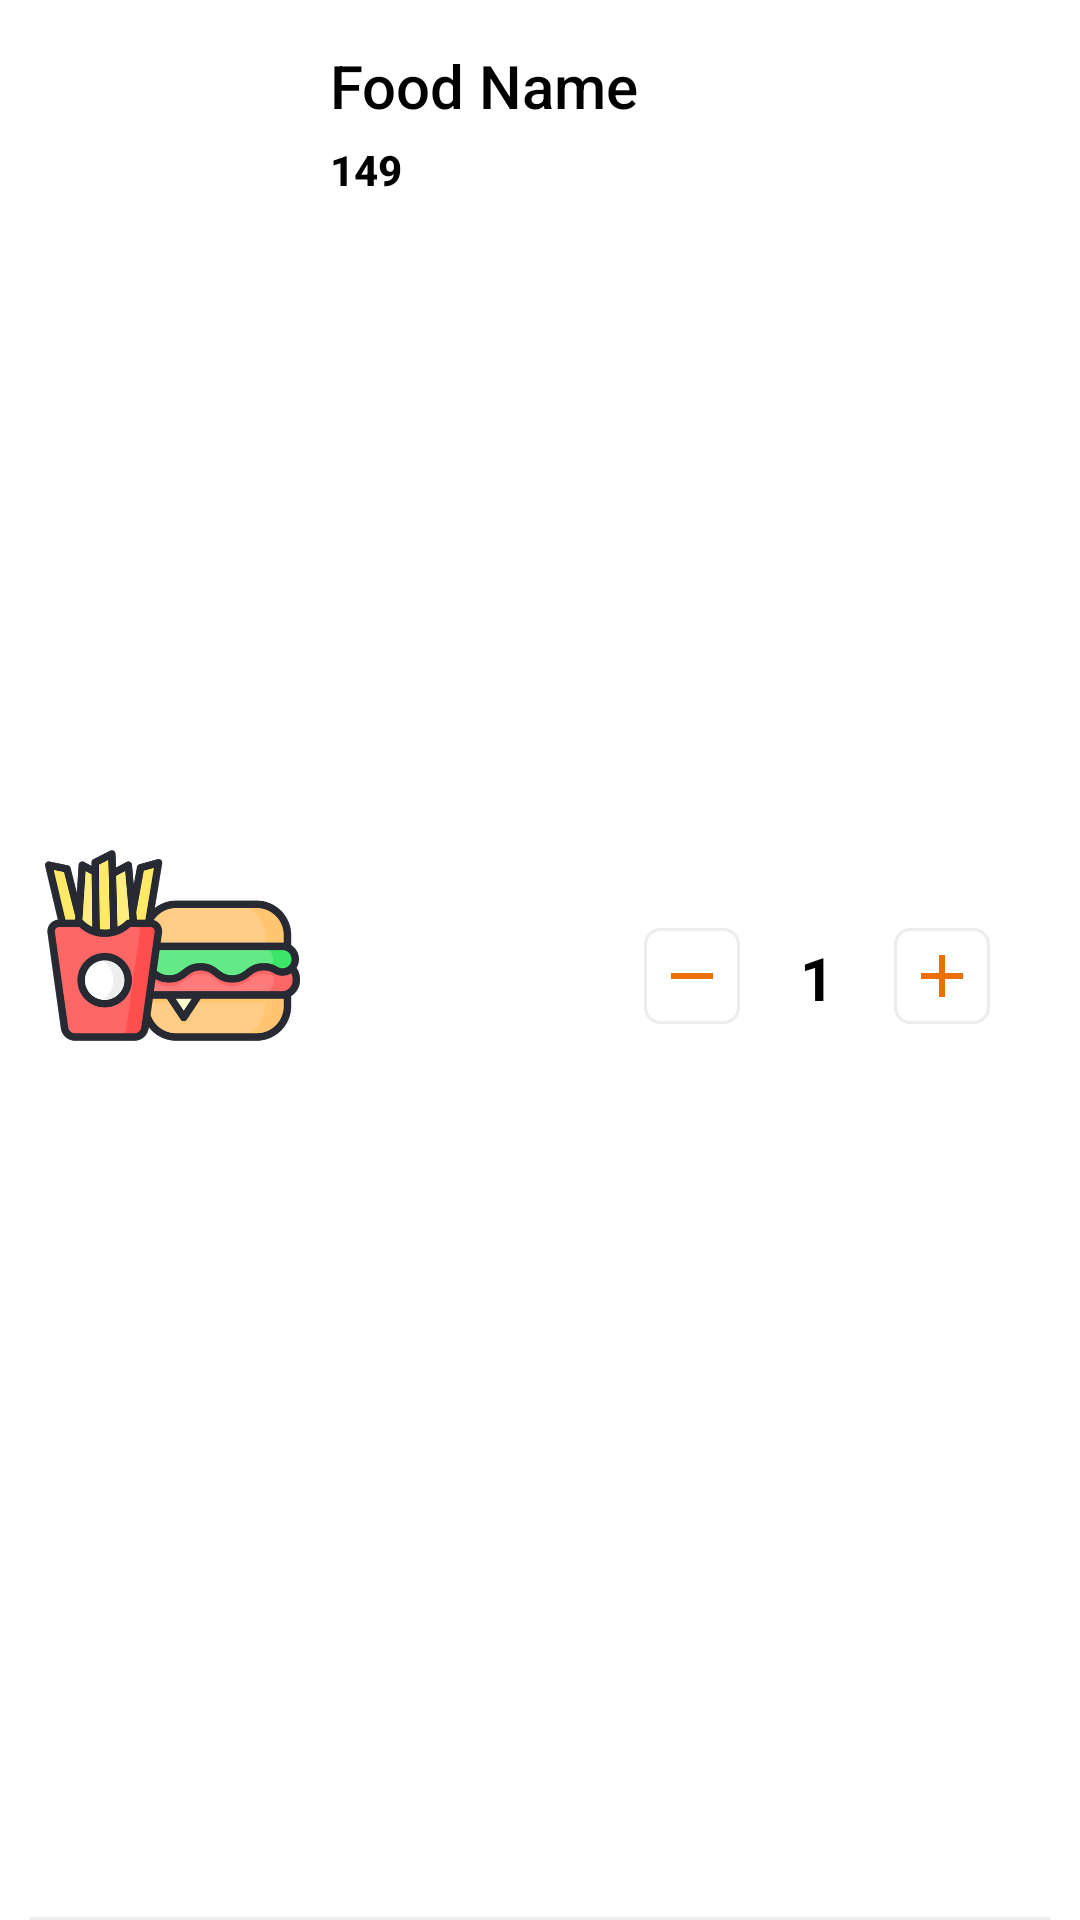

Icons on this 1080x1920 Android screen, each with its box as [x1,y1,x2,y2]:
add: [921,955,963,997]
fast food: [45,850,300,1041]
